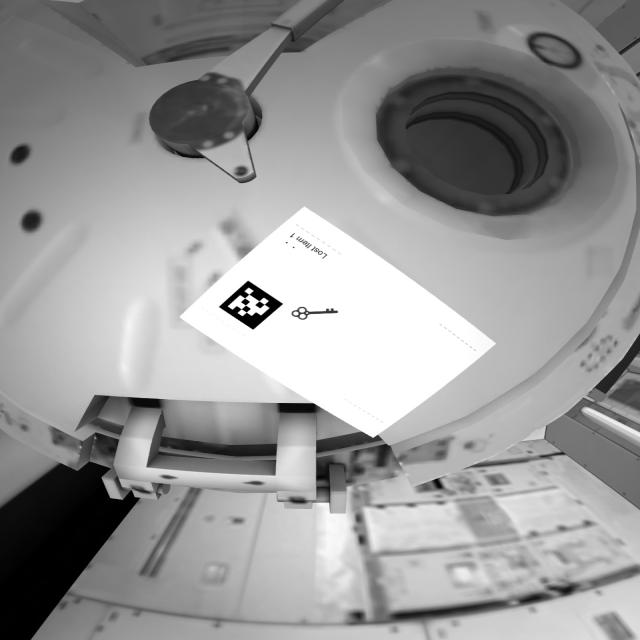key: (290, 302, 346, 325)
